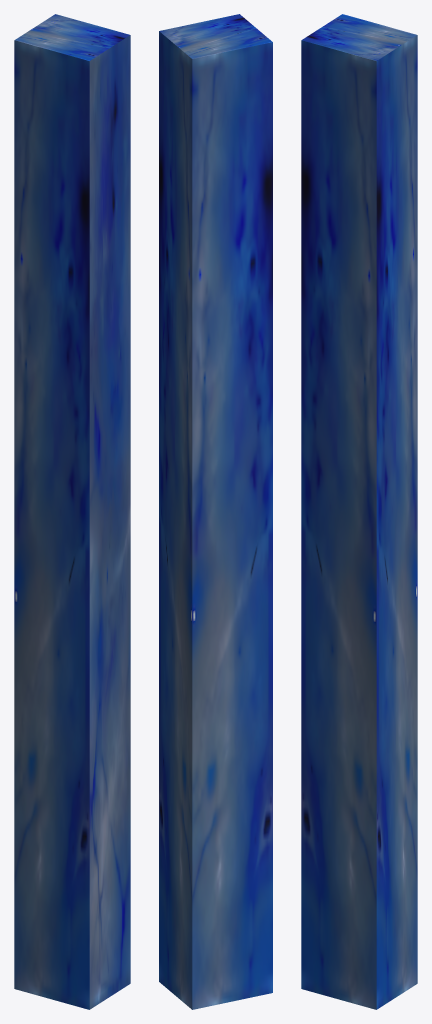
Rendered from BlueBlocks_21.gltf.
3 views of the same model, side by side, from view 1: azimuth 90°, elevation 25°; view 2: azimuth 150°, elevation 25°; view 3: azimuth 270°, elevation 25° (orthographic).
Parts seen in each view (by area): view 1: BlueBlocks_21; view 2: BlueBlocks_21; view 3: BlueBlocks_21.
Part boxes in pixels (bbox=[...]): BlueBlocks_21: bbox=[14, 14, 130, 1009]; BlueBlocks_21: bbox=[159, 14, 272, 1009]; BlueBlocks_21: bbox=[301, 14, 417, 1009].
Bounding box in the file's own units: 3.82 × 35.81 × 3.97.
1 material, 1 textured.
